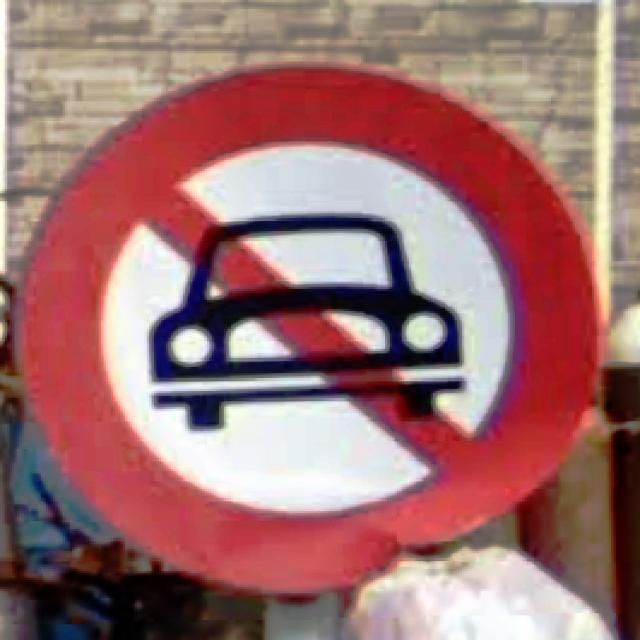nocar: (12, 64, 606, 596)
